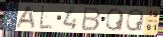4: (62, 6, 80, 32)
A: (14, 5, 37, 30)
B: (80, 7, 103, 32)
L: (39, 5, 54, 30)
Q: (125, 8, 146, 33), (104, 8, 125, 32)
